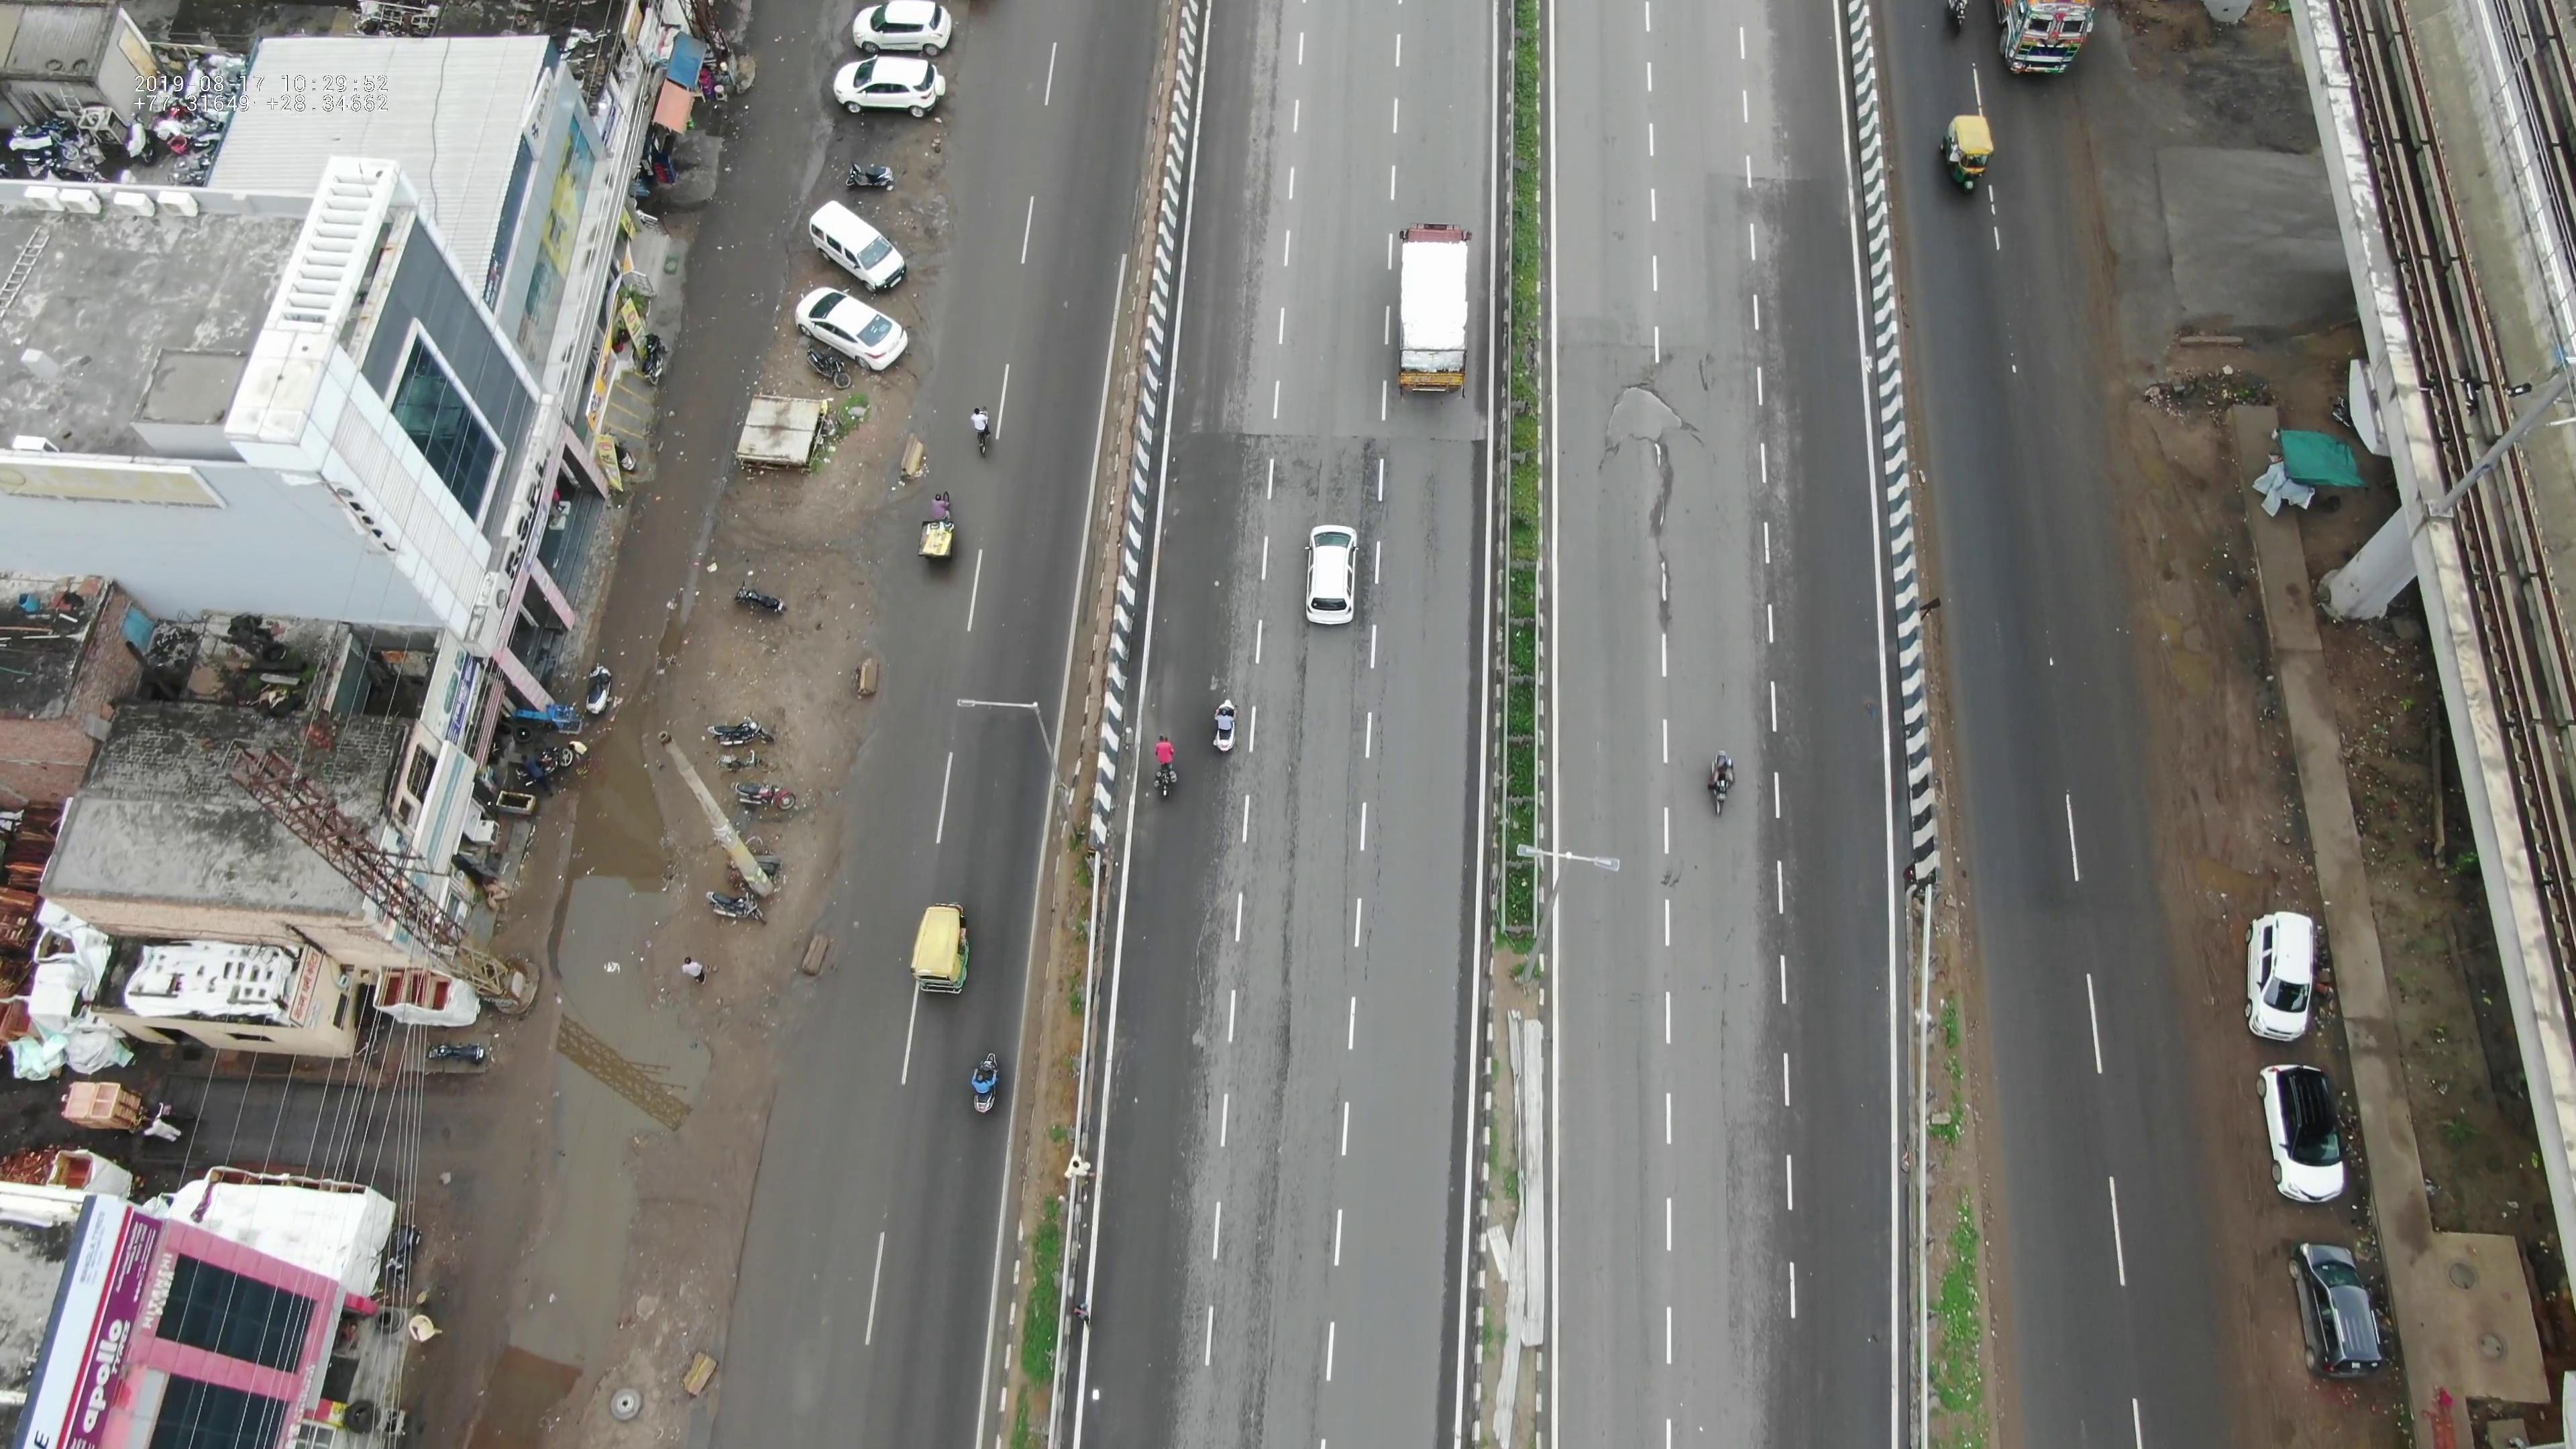Muddy_road: (2120, 455, 2266, 858)
Potholes: (1576, 363, 1757, 575)
Ravelling: (1238, 706, 1355, 1017), (1233, 1051, 1315, 1410), (1215, 416, 1421, 518)
Waterlogging: (492, 893, 695, 1359), (582, 628, 717, 872)
